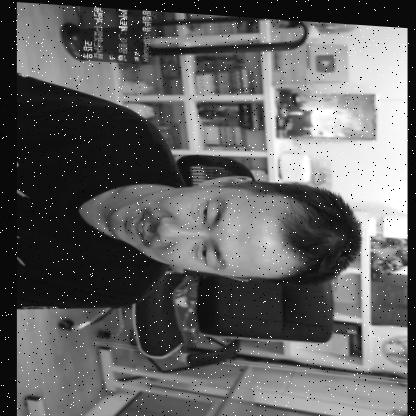streamer: (14, 71, 362, 325)
